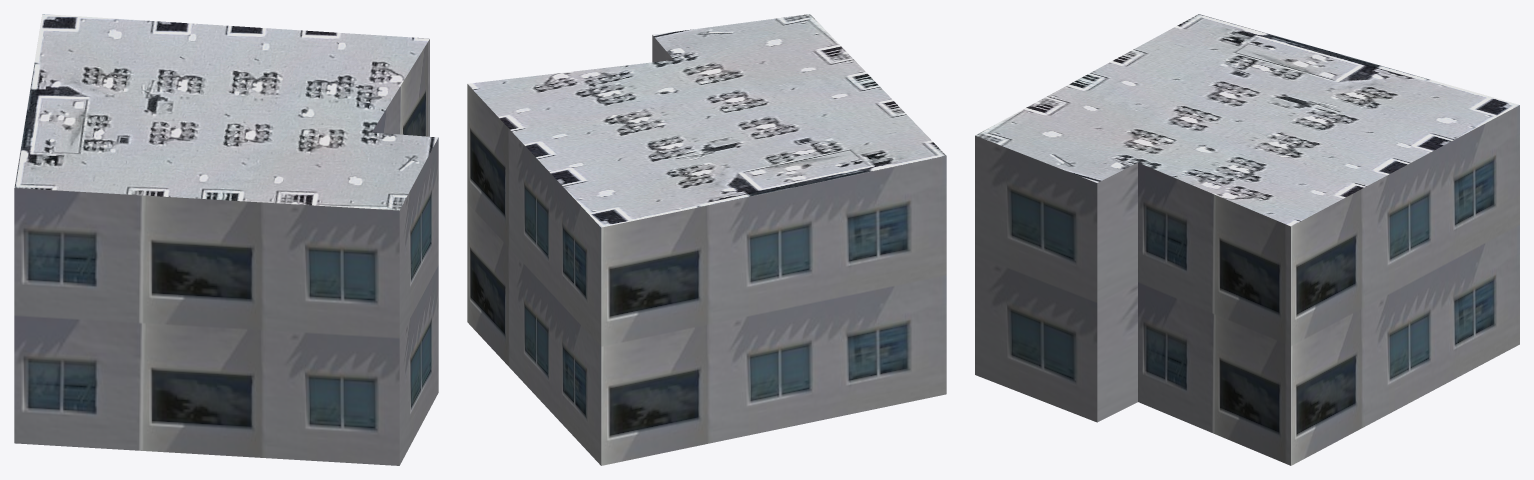
Rendered from ResTex__4526.fbx.
The picture shows the model from 3 angles, left to right: view 1: azimuth 30°, elevation 25°; view 2: azimuth 150°, elevation 25°; view 3: azimuth 270°, elevation 25°; orthographic projection. The views are drawn at different scales.
Parts seen in each view (by area): view 1: CityEngineMaterial_10_m, CityEngineMaterial_m; view 2: CityEngineMaterial_10_m, CityEngineMaterial_m; view 3: CityEngineMaterial_10_m, CityEngineMaterial_m.
Boxes of the visible parts, box(x1,y1,x2,y2) form: CityEngineMaterial_10_m: box(14, 39, 438, 465); CityEngineMaterial_m: box(14, 14, 438, 210); CityEngineMaterial_10_m: box(467, 35, 946, 465); CityEngineMaterial_m: box(467, 14, 946, 227); CityEngineMaterial_10_m: box(975, 105, 1519, 465); CityEngineMaterial_m: box(975, 14, 1519, 226).
Size of the model in its own units: 11.42 by 6 by 12.38.
2 materials, 2 textured.
